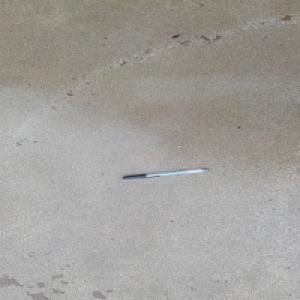Pen: (121, 167, 209, 180)
